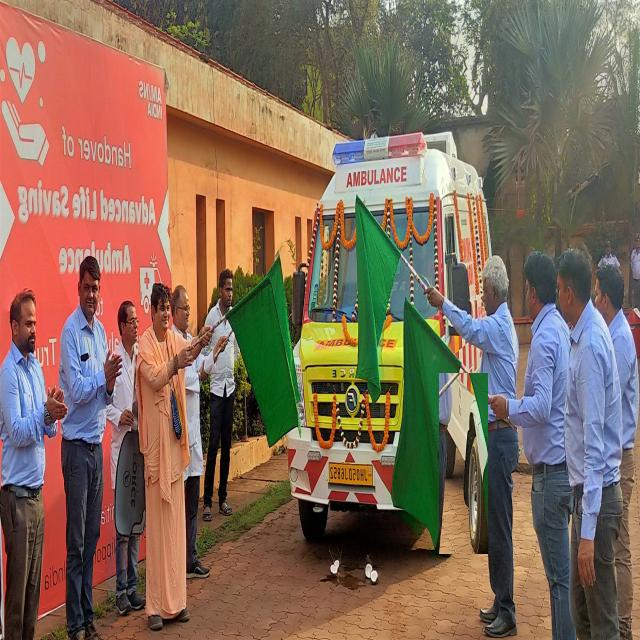emergency: (289, 132, 491, 540), (439, 373, 488, 554)
